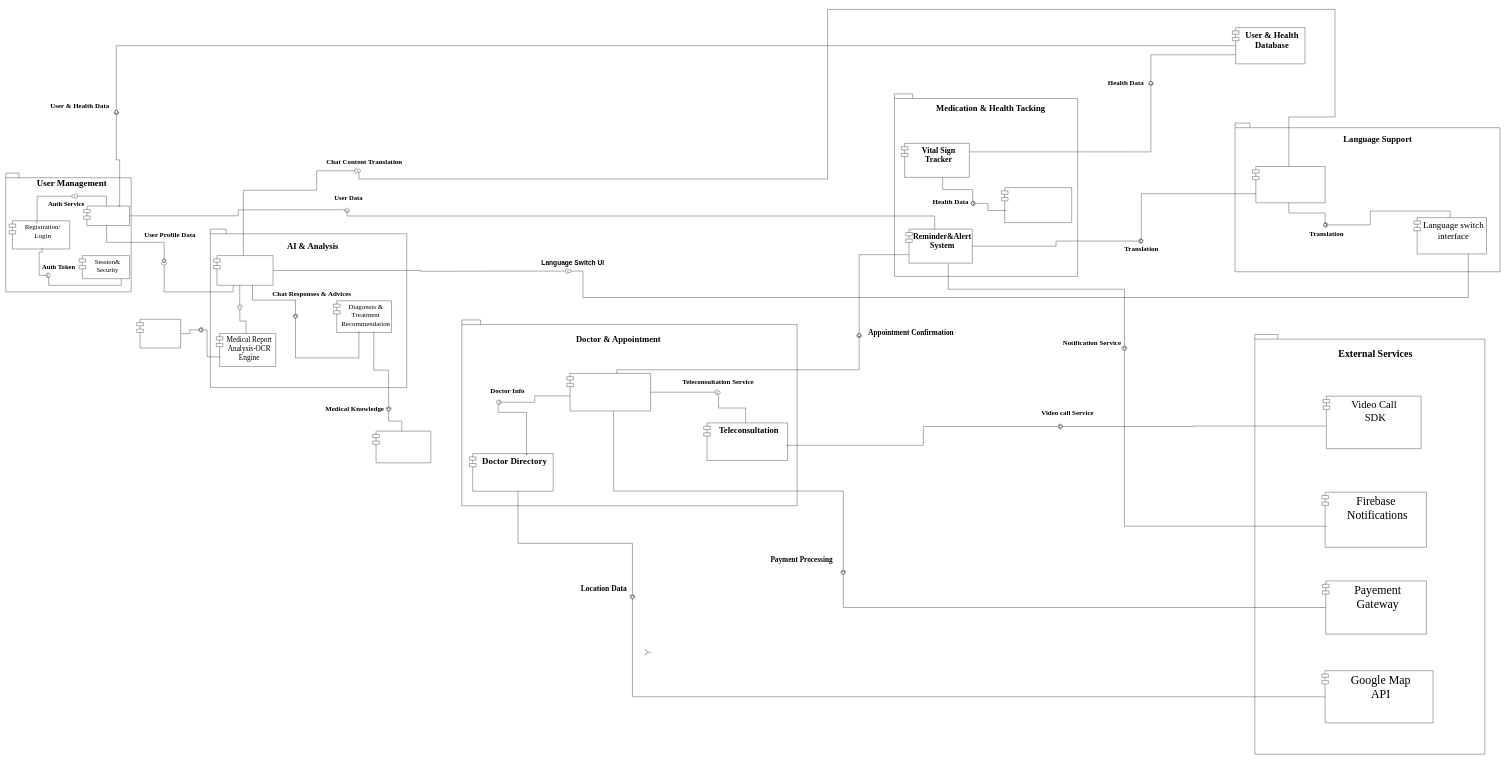
Image size: 1506x760. Some labels were removed from this diagram. The shapes that lost their labels are listed below. From the top down, each one's centre as x and y in pixels, then its label:
At (x=1288, y=184): "Translation Engine".
At (x=106, y=216): "User Profile".
At (x=1036, y=205): "Health Trend Analyzer".
At (x=243, y=270): "AI Health Assistant".
At (x=158, y=333): "OCR Service".
At (x=608, y=392): "Appointment Booking".
At (x=401, y=447): "Medical Knowledge DB".
